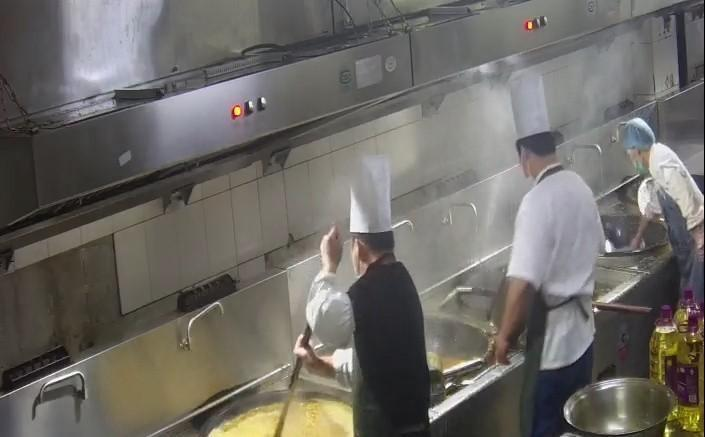mask: (627, 149, 651, 175)
no_apron: (293, 336, 335, 377), (321, 221, 346, 274), (495, 322, 519, 370)
